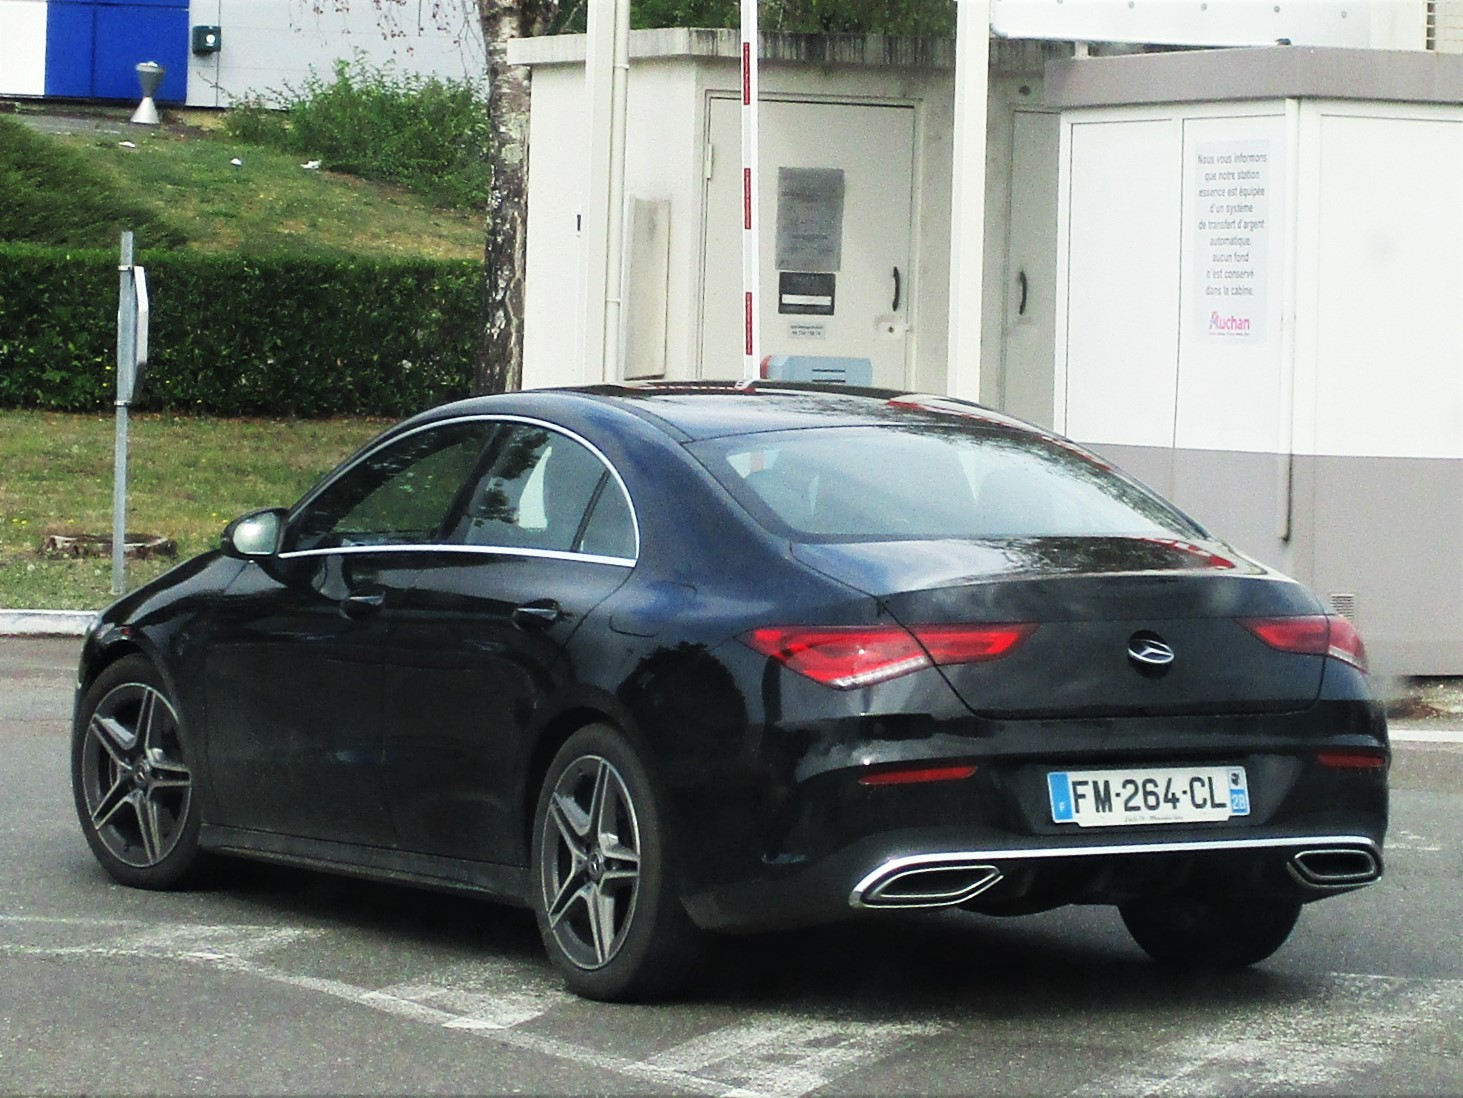licence plate: (1042, 760, 1261, 831)
